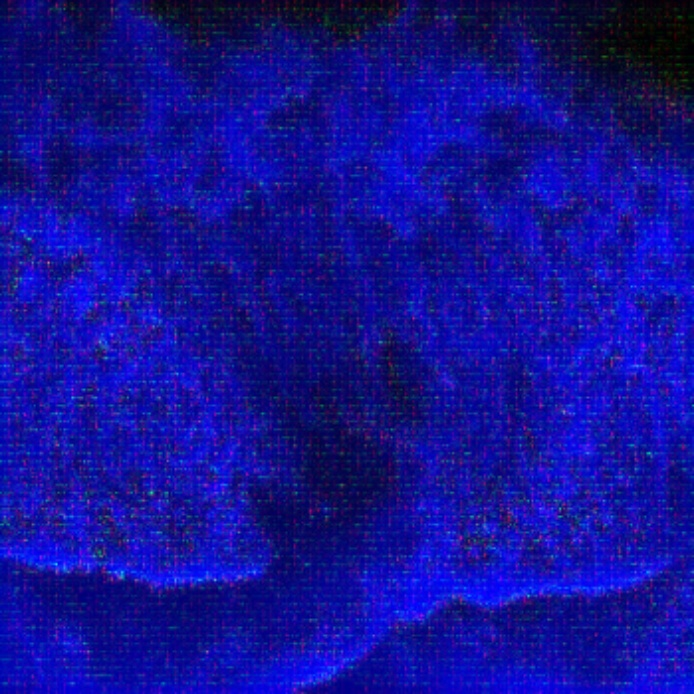rip_current: (141, 169, 551, 611)
